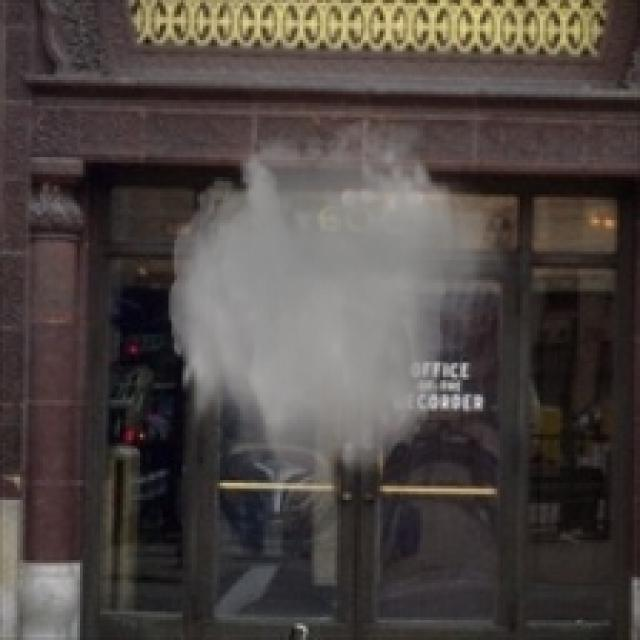smoke: (160, 103, 509, 523)
